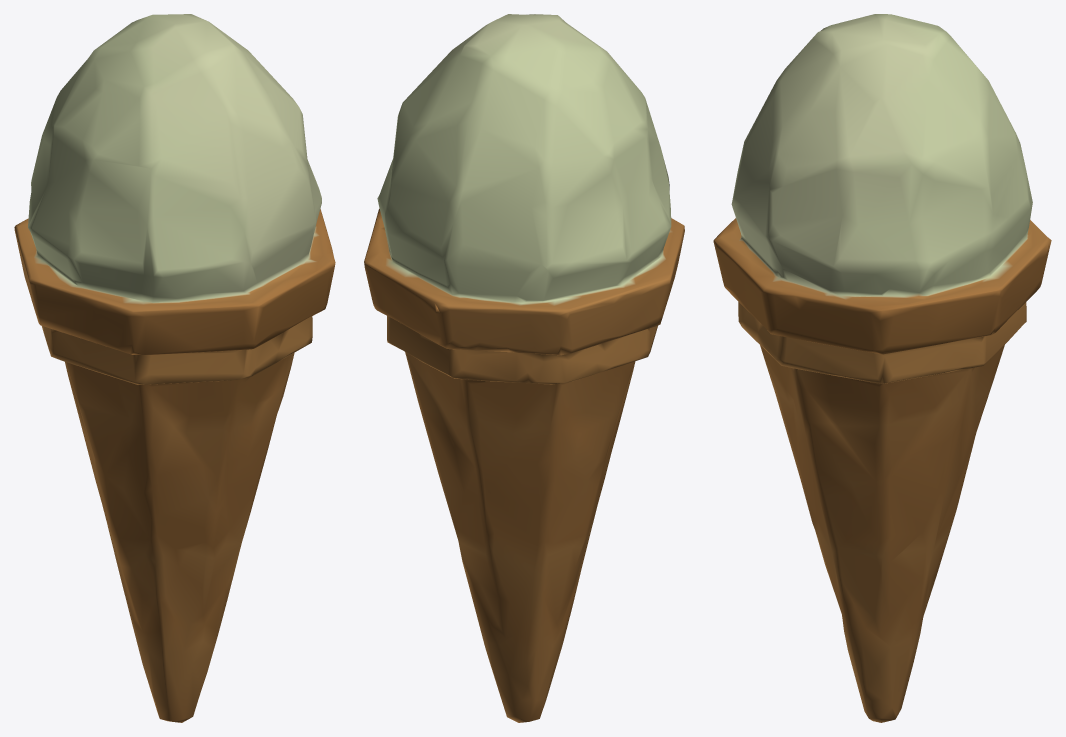
Rendered from gen3d-ice-cream-cone-lod0.glb.
The picture shows the model from 3 angles, left to right: view 1: azimuth 30°, elevation 25°; view 2: azimuth 150°, elevation 25°; view 3: azimuth 270°, elevation 25°; orthographic projection.
Visible parts, largest first — view 1: part_0; view 2: part_0; view 3: part_0.
Boxes of the visible parts, x1,y1,x2,y2 form: part_0: (14,14,335,722); part_0: (364,14,684,722); part_0: (713,14,1051,722).
Size of the model in its own units: 0.4387 by 0.9983 by 0.4383.
